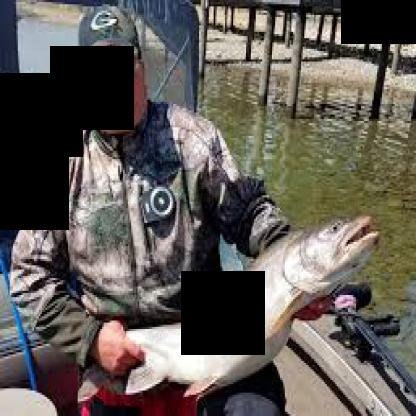fish: (72, 214, 376, 408)
